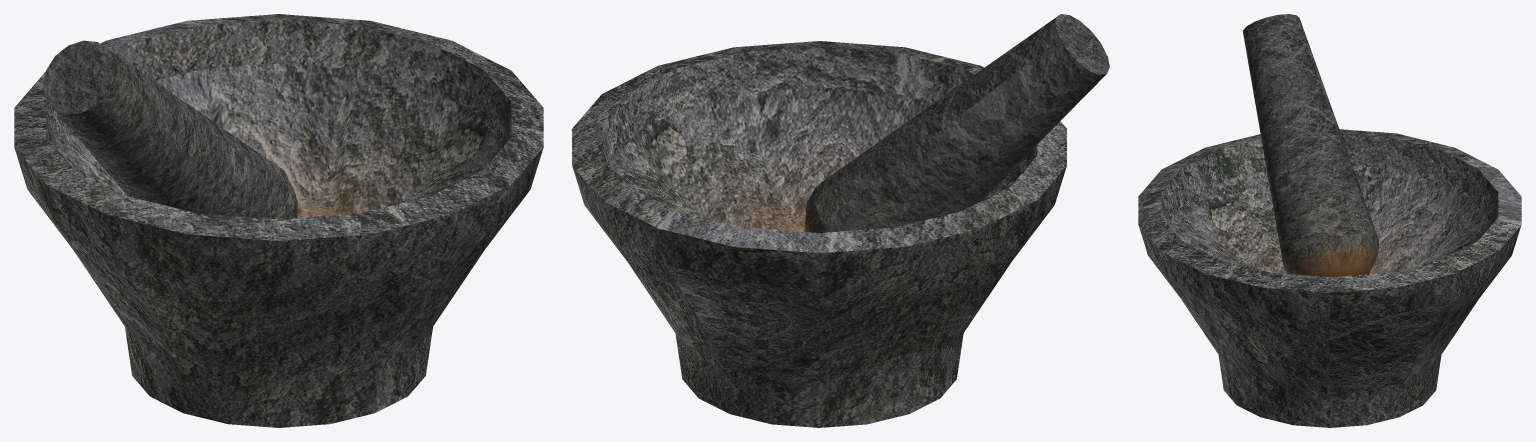
The model's file is Kitchen_LesungBatu_Unwrap.fbx.
3 views of the same model, side by side, from view 1: azimuth 30°, elevation 25°; view 2: azimuth 150°, elevation 25°; view 3: azimuth 270°, elevation 25° (orthographic). The views are drawn at different scales.
Visible parts, largest first — view 1: LesungBatu, Holder; view 2: LesungBatu, Holder; view 3: LesungBatu, Holder.
Part boxes in pixels (x1,y1,x2,y2): LesungBatu: (14, 14, 543, 427); Holder: (43, 40, 297, 219); LesungBatu: (572, 41, 1066, 427); Holder: (804, 14, 1109, 232); LesungBatu: (1138, 129, 1521, 427); Holder: (1243, 14, 1379, 276).
Bounding box in the file's own units: 5.62 × 4.32 × 5.16.
